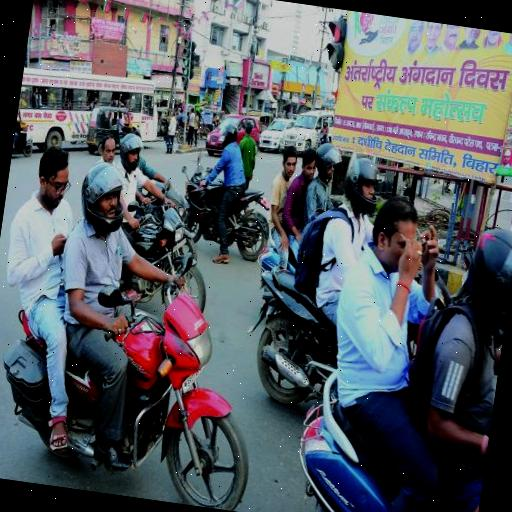helmet: (30, 152, 164, 494), (310, 150, 388, 359), (101, 126, 202, 246), (189, 112, 260, 270)
